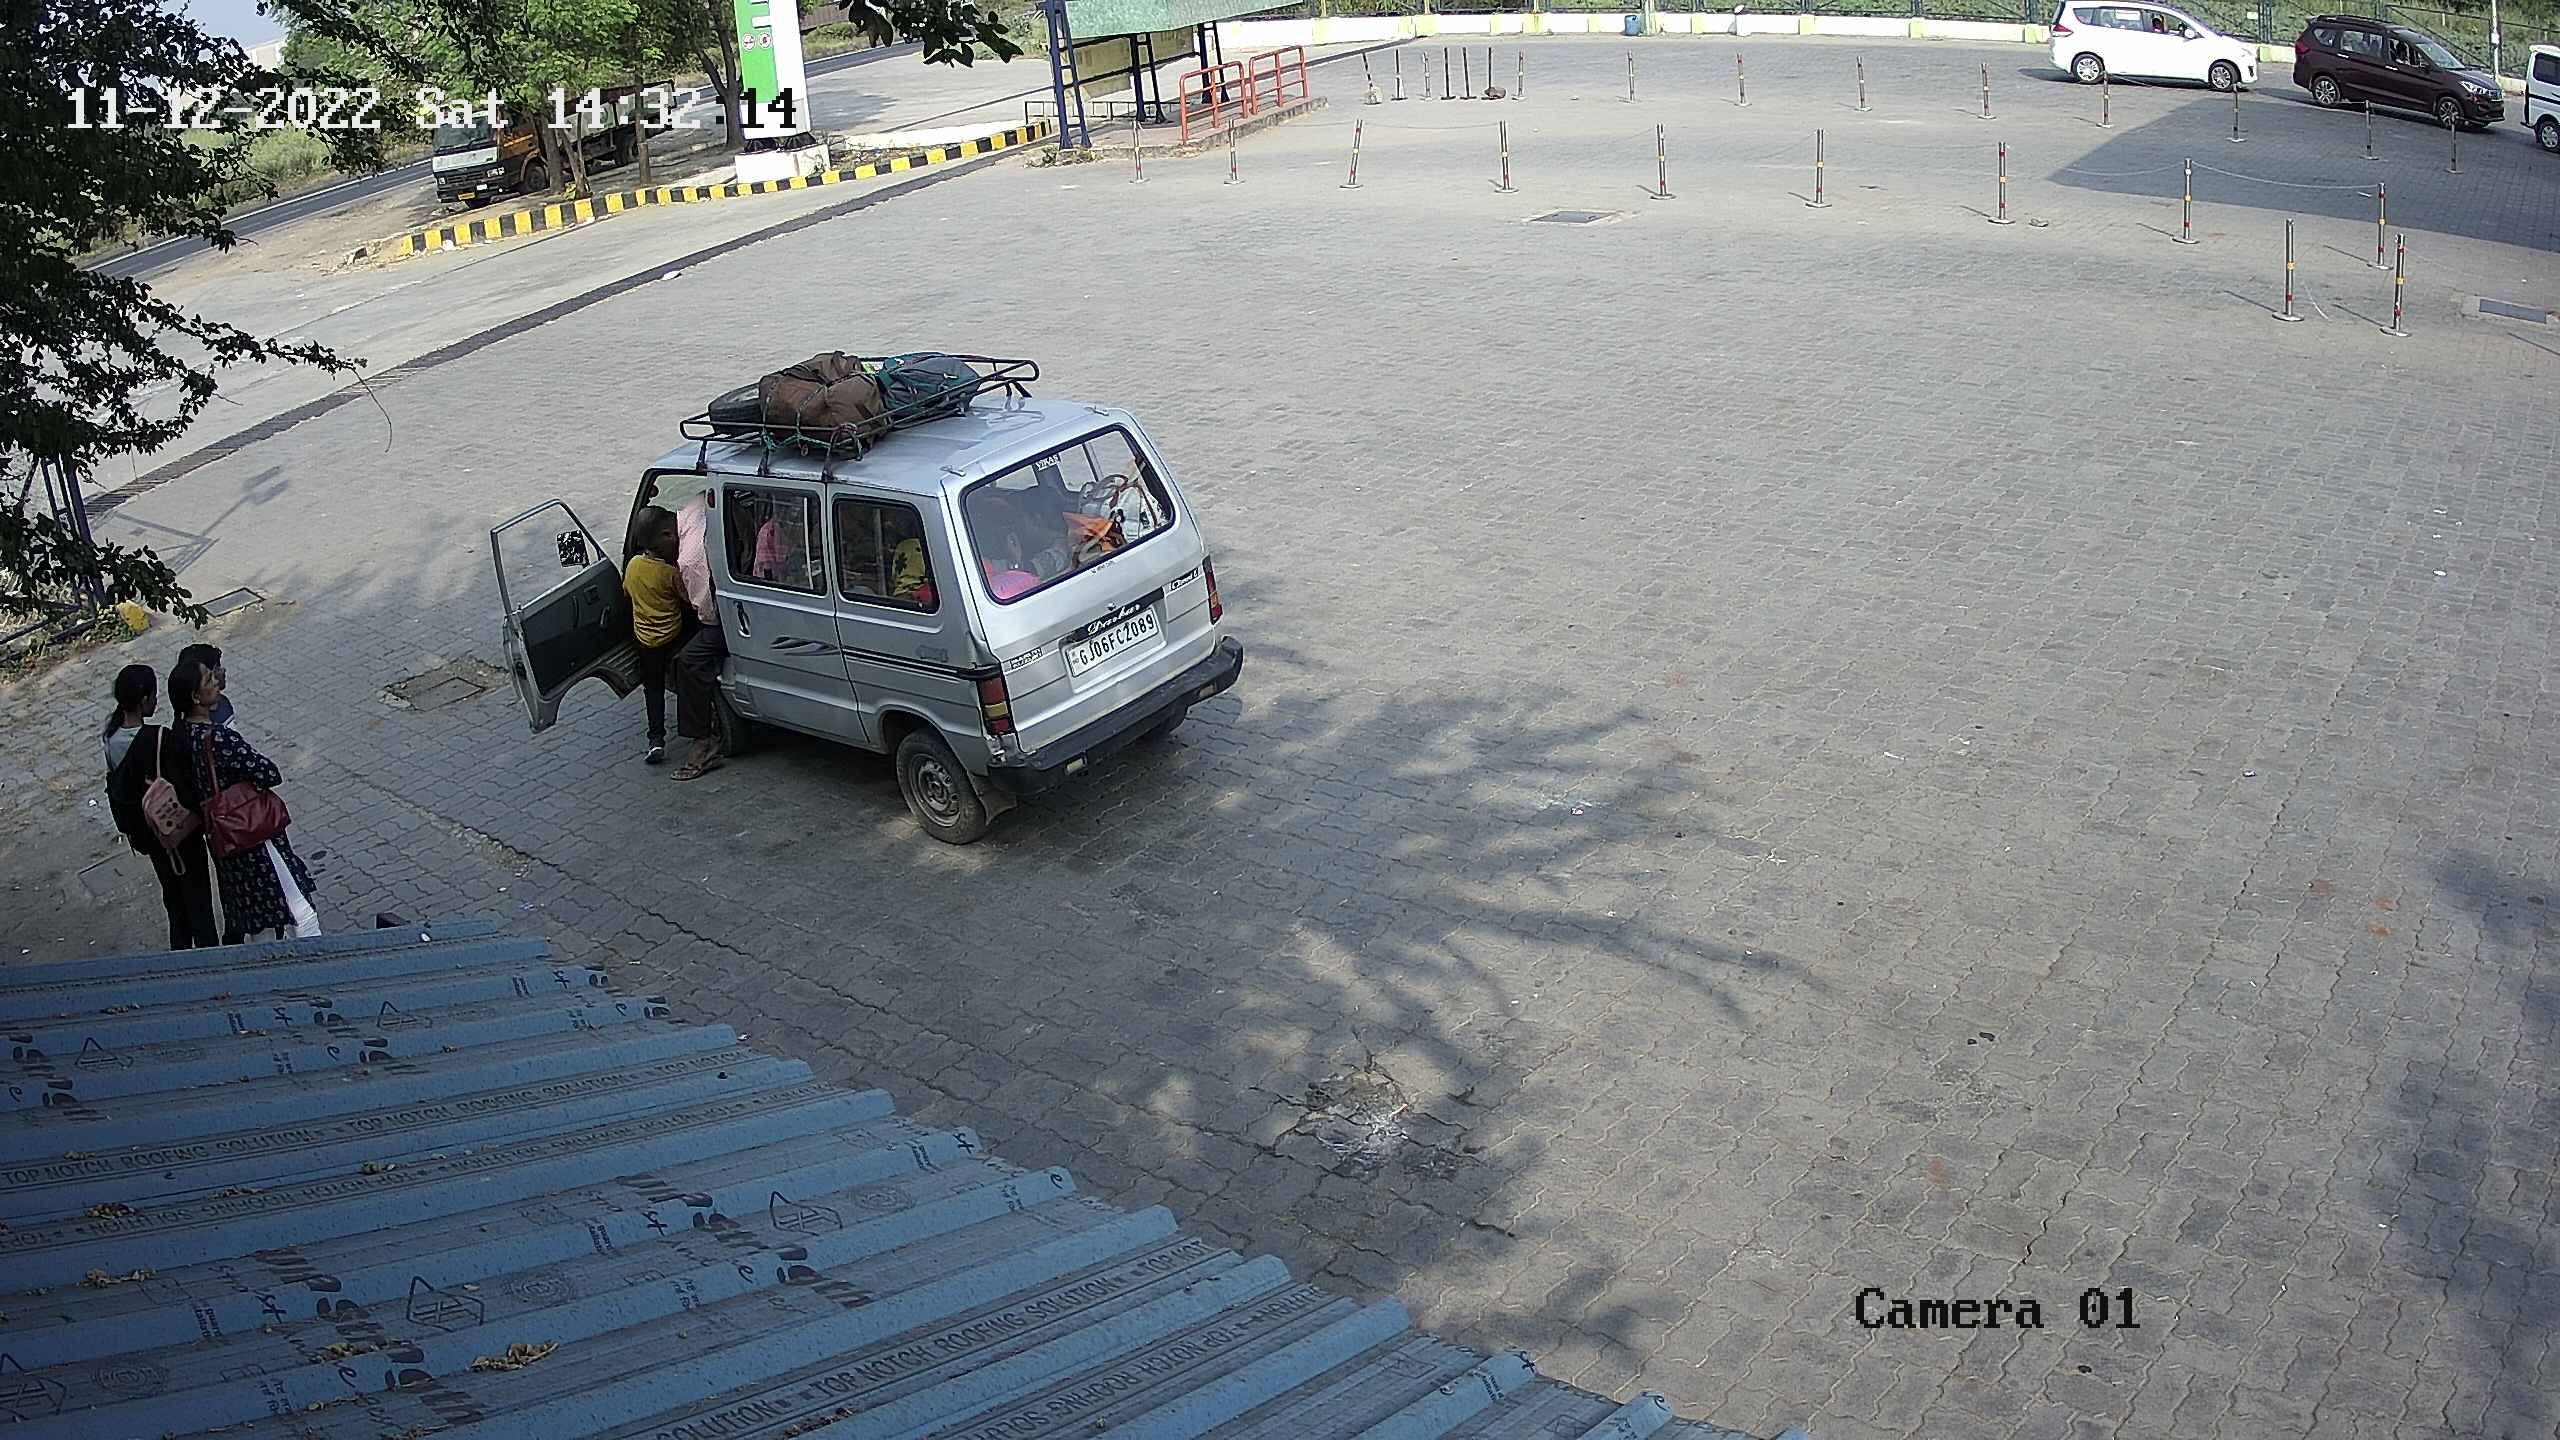Car: (475, 332, 1252, 851), (2287, 5, 2513, 135), (2041, 0, 2266, 98), (2514, 23, 2558, 164)
HMV: (424, 53, 559, 216)
